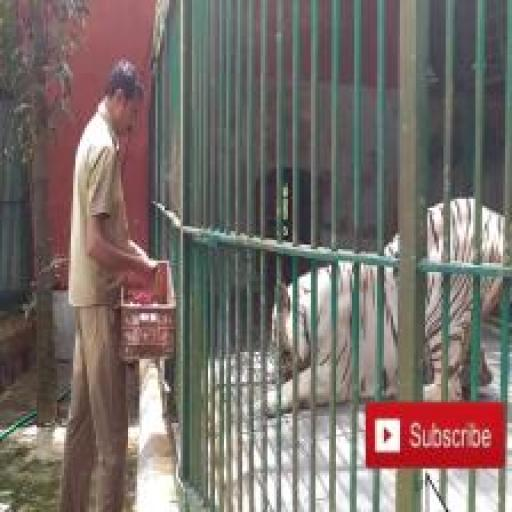Tiger: (233, 151, 512, 449)
